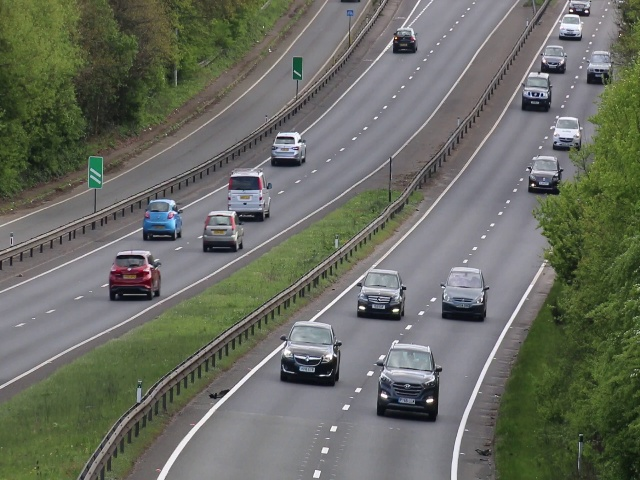car: (378, 342, 441, 422), (278, 319, 340, 387), (110, 248, 161, 299), (440, 267, 488, 321), (358, 268, 404, 320), (227, 168, 271, 220), (203, 208, 244, 253), (141, 198, 183, 240), (268, 127, 308, 166), (522, 69, 552, 113), (528, 154, 560, 194), (550, 114, 581, 151), (586, 48, 613, 87), (542, 44, 568, 74), (393, 25, 419, 54), (558, 14, 584, 43)
